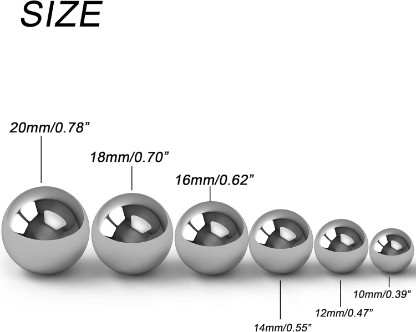ironball: (0, 185, 89, 275), (90, 192, 173, 275), (174, 200, 248, 275), (248, 208, 313, 274), (313, 218, 368, 273), (368, 227, 414, 273)
